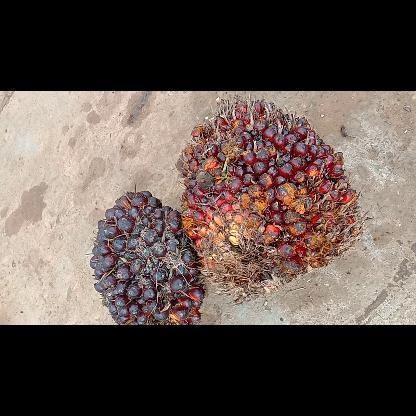TBS masak: (180, 93, 364, 299)
TBS mentah: (90, 190, 204, 324)
